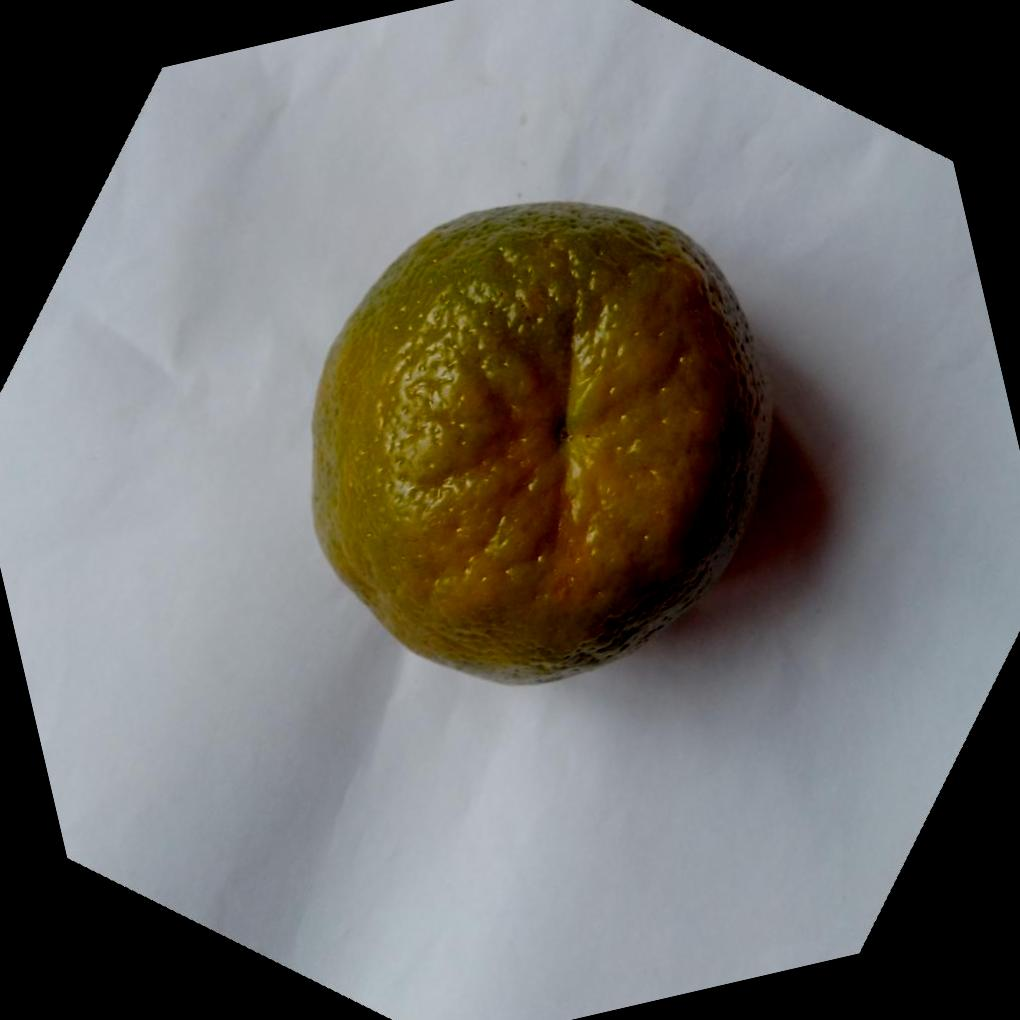FreshGuava: (309, 200, 776, 692)
